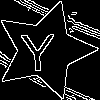Y: (20, 25, 55, 71)
